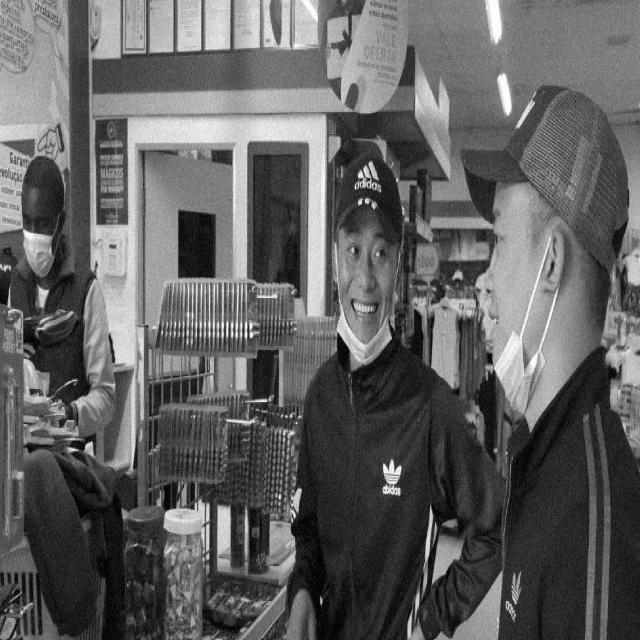hairnet: (483, 200, 546, 414), (335, 225, 395, 362)
